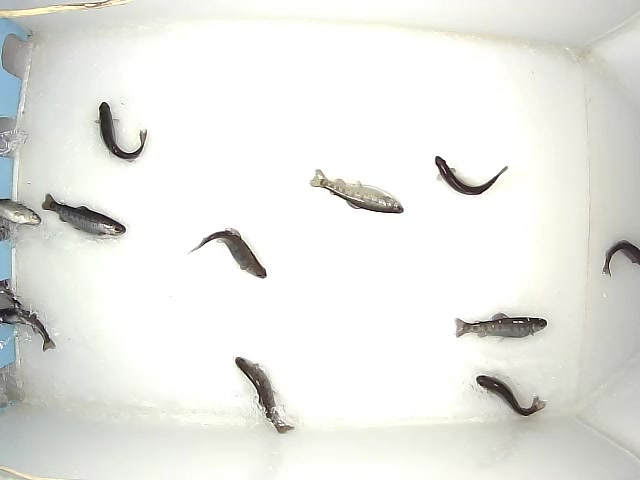fish: (234, 356, 294, 433), (309, 168, 403, 213), (186, 227, 267, 278), (41, 192, 125, 236), (94, 101, 147, 163), (475, 374, 546, 416), (434, 155, 508, 195), (454, 311, 547, 342), (1, 308, 56, 352), (602, 240, 640, 278), (1, 199, 42, 226)
